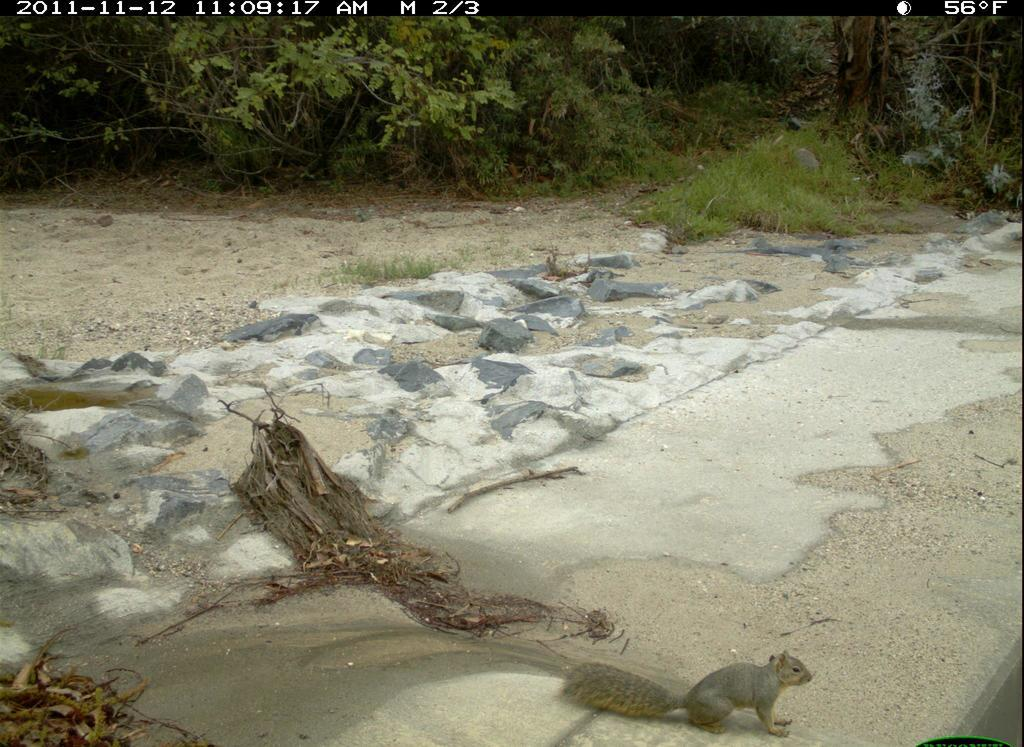squirrel: (562, 643, 826, 743)
